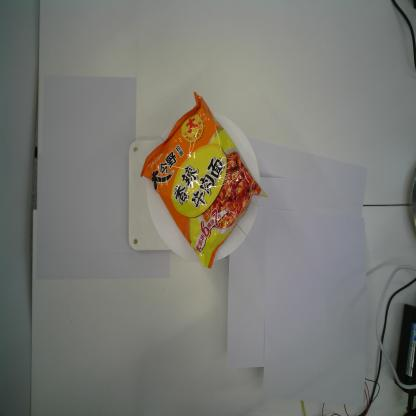Instant Noodles: (140, 90, 268, 270)
